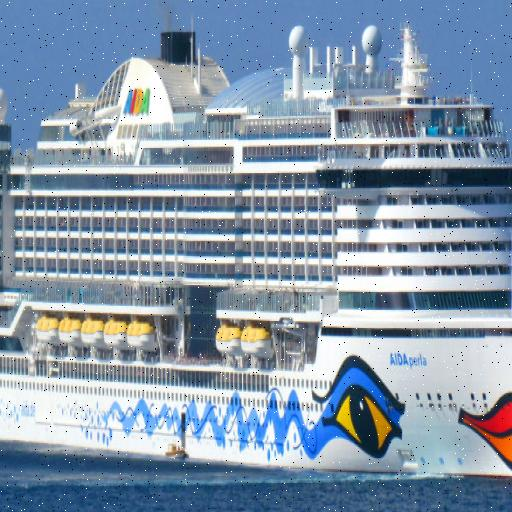cruises: (1, 1, 512, 501)
